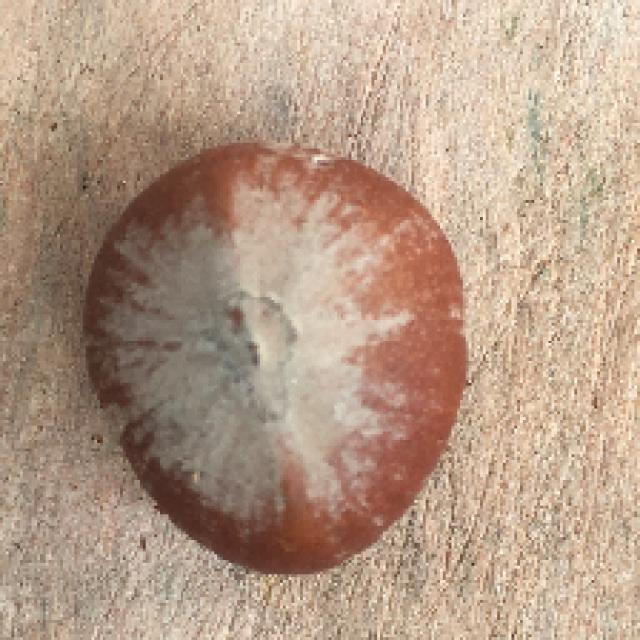qualityHazelnut: (88, 134, 468, 578)
